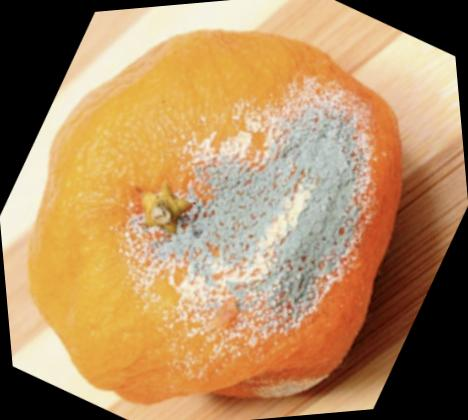Orange Rotten: (8, 9, 427, 420)
